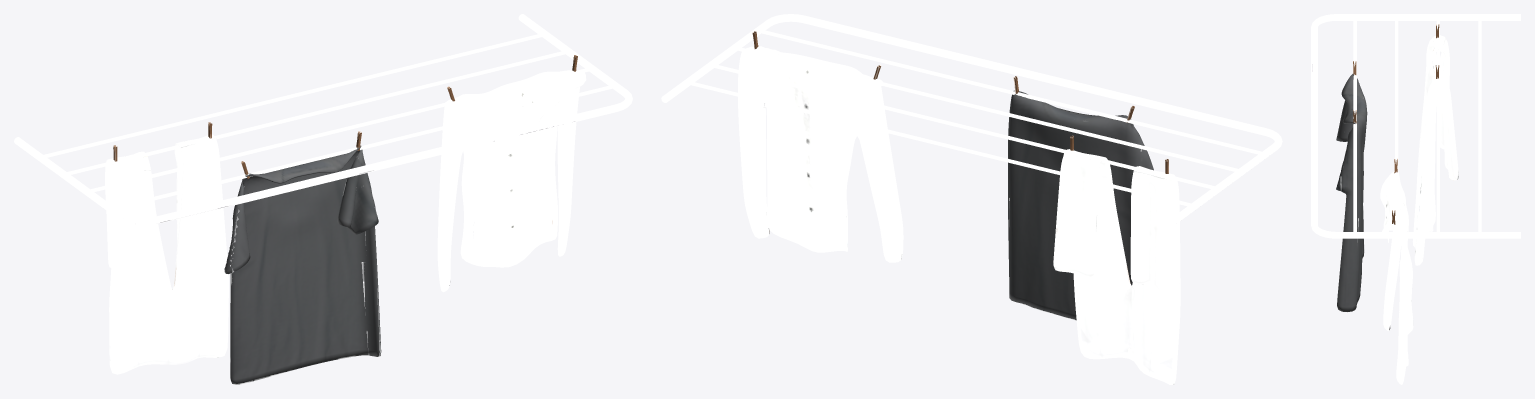
3 renders of one model, left to right at view 1: azimuth 30°, elevation 25°; view 2: azimuth 150°, elevation 25°; view 3: azimuth 270°, elevation 25°, orthographic. The views are drawn at different scales.
Parts seen in each view (by area): view 1: E_CL_1_LOD0; view 2: E_CL_1_LOD0; view 3: E_CL_1_LOD0.
Boxes of the visible parts, x1=… form: E_CL_1_LOD0: x1=14, y1=14, x2=632, y2=384; E_CL_1_LOD0: x1=661, y1=14, x2=1282, y2=384; E_CL_1_LOD0: x1=1311, y1=14, x2=1520, y2=384.
Size of what is drawn, in the model's own units: 182 by 78.06 by 73.2.
Materials: 1 (1 with a texture image).
